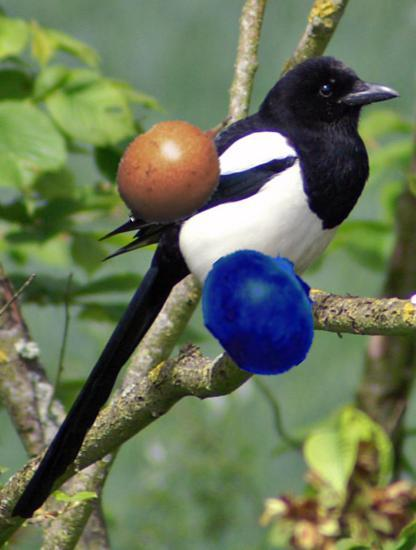Granadilla: (110, 96, 251, 237)
Huckleberry: (195, 244, 327, 376)
